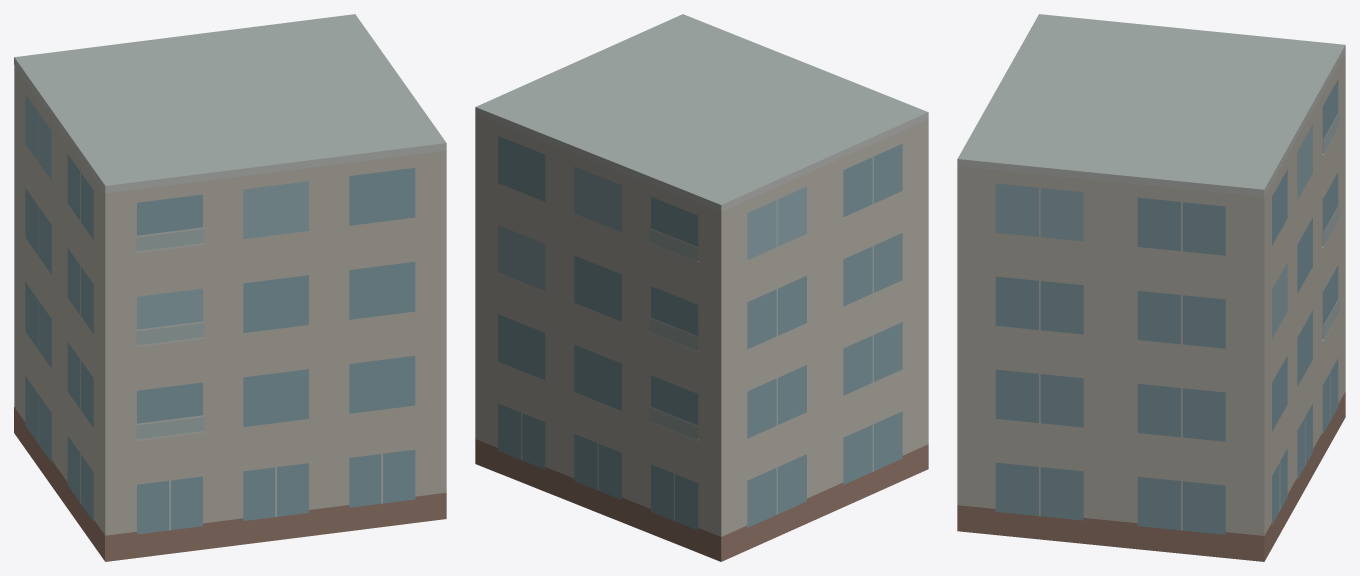
File: residential-b6b180fd-34b2-4ebe-94b1-9b47435d93c5.glb
The picture shows the model from 3 angles, left to right: view 1: azimuth 30°, elevation 25°; view 2: azimuth 150°, elevation 25°; view 3: azimuth 270°, elevation 25°; orthographic projection. The views are drawn at different scales.
Parts seen in each view (by area): view 1: residential-b6b180fd-34b2-4ebe-94b1-9b47435d93c5.tmp; view 2: residential-b6b180fd-34b2-4ebe-94b1-9b47435d93c5.tmp; view 3: residential-b6b180fd-34b2-4ebe-94b1-9b47435d93c5.tmp.
Part boxes in pixels (x1,y1,x2,y2): residential-b6b180fd-34b2-4ebe-94b1-9b47435d93c5.tmp: [14, 14, 446, 561]; residential-b6b180fd-34b2-4ebe-94b1-9b47435d93c5.tmp: [475, 14, 928, 561]; residential-b6b180fd-34b2-4ebe-94b1-9b47435d93c5.tmp: [957, 14, 1345, 561].
Bounding box in the file's own units: 12.36 × 12.2 × 11.54.
